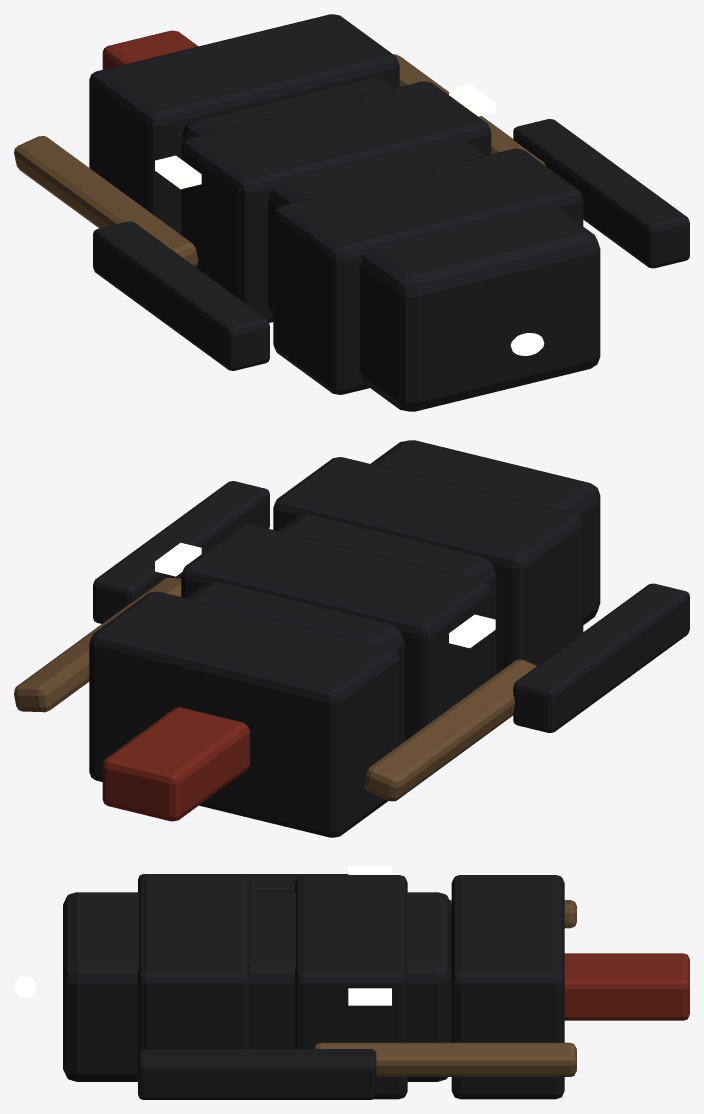
The picture shows the model from 3 angles, top to bottom: view 1: azimuth 30°, elevation 25°; view 2: azimuth 150°, elevation 25°; view 3: azimuth 270°, elevation 25°; orthographic projection. The views are drawn at different scales.
Visible parts, largest first — view 1: RIMWARD_HULL, RIMWARD_EMISSIVE, RIMWARD_ENGINE_GLOW; view 2: RIMWARD_HULL, RIMWARD_EMISSIVE; view 3: RIMWARD_HULL, RIMWARD_EMISSIVE, RIMWARD_ENGINE_GLOW.
Part boxes in pixels (<box>): RIMWARD_HULL: <box>14,14,689,411</box>; RIMWARD_EMISSIVE: <box>155,84,495,189</box>; RIMWARD_ENGINE_GLOW: <box>510,333,544,355</box>; RIMWARD_HULL: <box>14,440,689,837</box>; RIMWARD_EMISSIVE: <box>155,543,495,648</box>; RIMWARD_HULL: <box>63,874,689,1099</box>; RIMWARD_EMISSIVE: <box>348,866,391,1005</box>; RIMWARD_ENGINE_GLOW: <box>14,976,36,997</box>.
Bounding box in the file's own units: 61.71 × 18.86 × 91.63.
